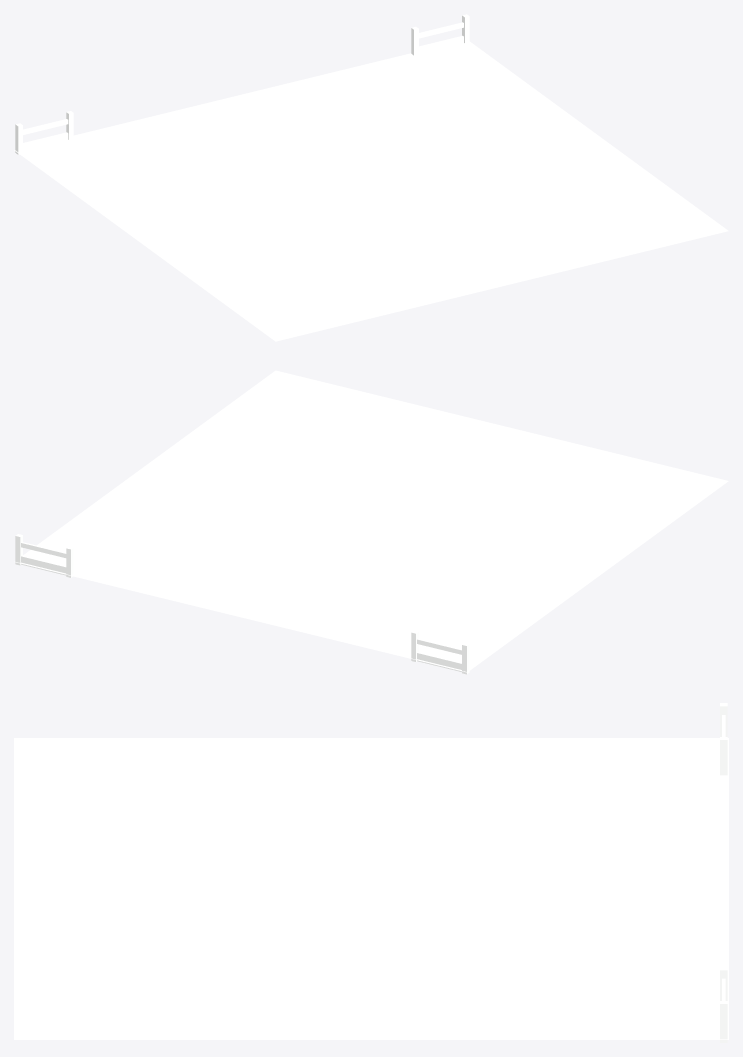
The model's file is tile_for_home_2x2.007.glb.
The picture shows the model from 3 angles, top to bottom: view 1: azimuth 30°, elevation 25°; view 2: azimuth 150°, elevation 25°; view 3: azimuth 270°, elevation 25°; orthographic projection. The views are drawn at different scales.
Visible parts, largest first — view 1: tile_for_home_2x2.007(Clone); view 2: tile_for_home_2x2.007(Clone); view 3: tile_for_home_2x2.007(Clone).
Boxes of the visible parts, x1=… form: tile_for_home_2x2.007(Clone): x1=14, y1=14, x2=728, y2=341; tile_for_home_2x2.007(Clone): x1=14, y1=370, x2=728, y2=674; tile_for_home_2x2.007(Clone): x1=14, y1=703, x2=728, y2=1042.
Bounding box in the file's own units: 16 × 0.959 × 16.
1 material, 1 textured.
